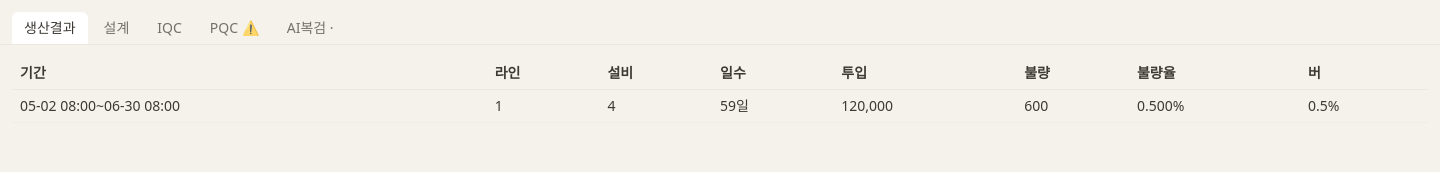
it: StageTabs › shows the failure reason on a stage whose extraction errored
The image size is (1440, 172).
Click the tab "PQC ⚠".
click(234, 28)  # box [198,12,271,44]
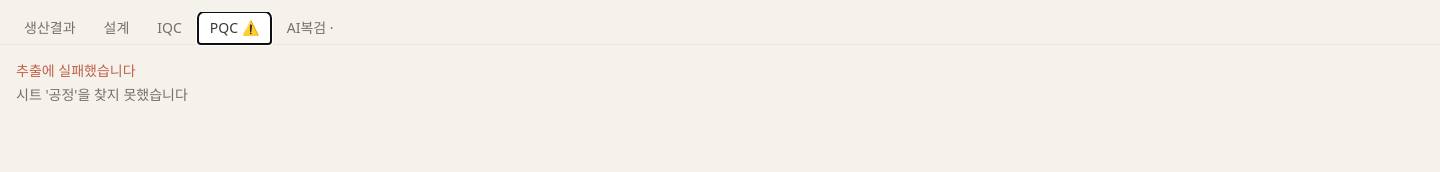
Now the text "시트 '공정'을 찾지 못했습니다" is shown, box [16,85,188,104]
